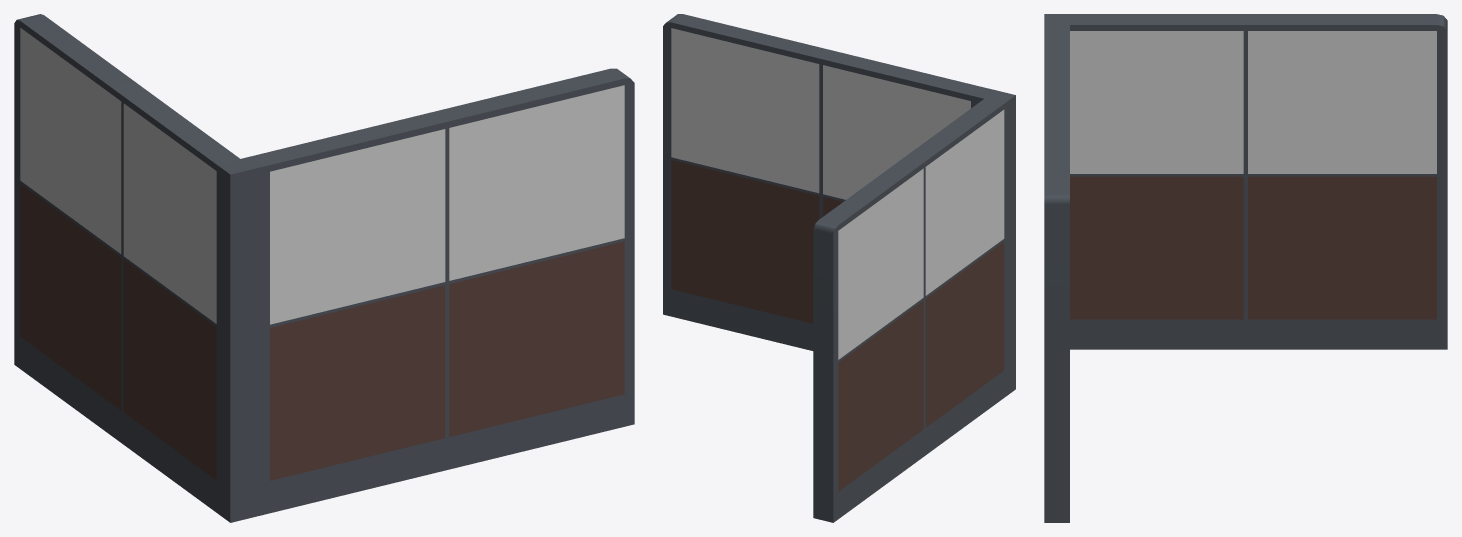
The model's file is partition2.fbx.
The picture shows the model from 3 angles, left to right: view 1: azimuth 30°, elevation 25°; view 2: azimuth 150°, elevation 25°; view 3: azimuth 270°, elevation 25°; orthographic projection. The views are drawn at different scales.
Parts seen in each view (by area): view 1: partition2; view 2: partition2; view 3: partition2.
Boxes of the visible parts, bbox=[...] form: partition2: bbox=[14, 14, 634, 522]; partition2: bbox=[663, 14, 1015, 522]; partition2: bbox=[1044, 14, 1447, 522].
Size of the model in its own units: 0.0125 by 0.0103 by 0.0116.
Materials: 1 (1 with a texture image).
